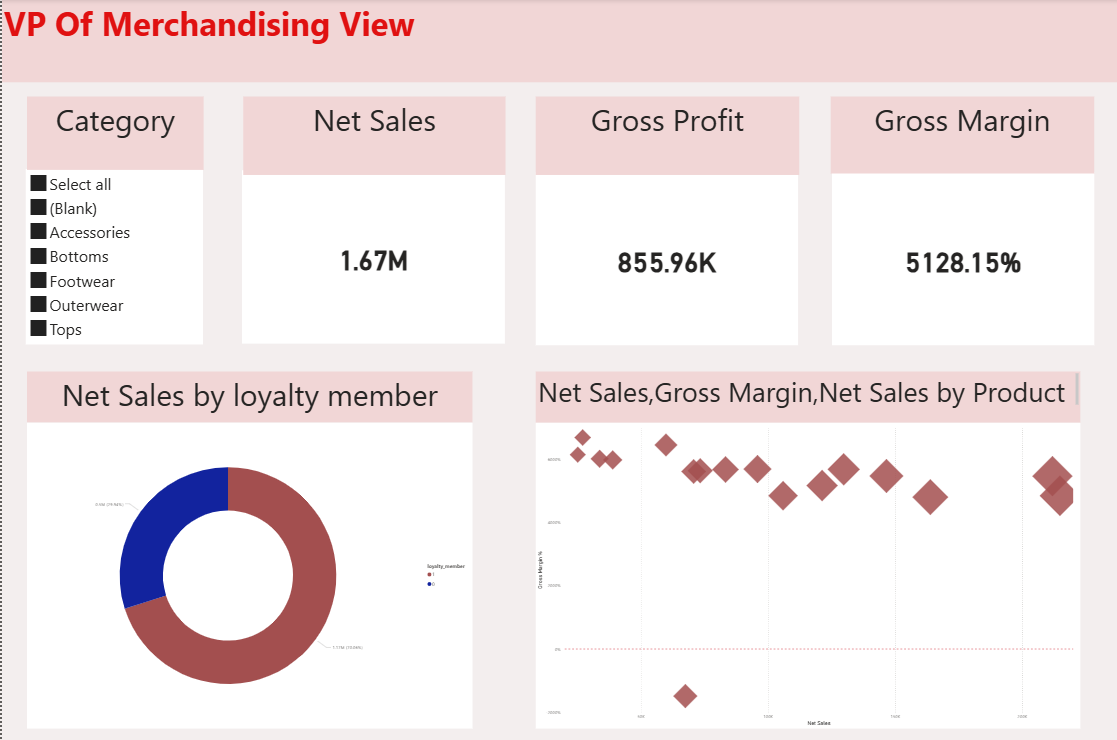

Layout of this report page (visuals, bound fields, positions):
{"tool":"powerbi","page":{"name":"VP of Merchandising View","canvas":[3000,2000],"ordinal":1},"visuals":[{"type":"card","fields":{"Values":["daily_foot_traffic.Net Sales"]},"box":[645,460,705,465],"z":0},{"type":"card","fields":{"Values":["daily_foot_traffic.Gross Profit"]},"box":[1430,465,703,462],"z":1000},{"type":"card","fields":{"Values":["daily_foot_traffic.Gross Margin %"]},"box":[2224,466,703,462],"z":2000},{"type":"scatterChart","fields":{"Category":["products.product_name"],"X":["daily_foot_traffic.Net Sales"],"Y":["daily_foot_traffic.Gross Margin %"],"Size":["daily_foot_traffic.Net Sales"]},"box":[1430,1136.7,1460,820],"z":3000},{"type":"donutChart","fields":{"Category":["transactions.loyalty_member"],"Y":["daily_foot_traffic.Net Sales"]},"box":[66,1136,1194,820],"z":4000},{"type":"slicer","fields":{"Values":["products.category"]},"box":[65,455,475,470],"z":5000},{"type":"textbox","box":[0,0,3000,223.3],"z":6000},{"type":"textbox","box":[646.7,260,703.3,210],"z":7000},{"type":"textbox","box":[1430,260,706.7,210],"z":8000},{"type":"textbox","box":[2223.3,260,706.7,206.7],"z":9000},{"type":"textbox","box":[66.7,260,473.3,196.7],"z":10000},{"type":"textbox","box":[66,1000,1194,136],"z":11000},{"type":"textbox","box":[1430,1000,1460,136.7],"z":12000}]}

Visuals, with their boxes in screenshot pixels (x1, y1, x2, y2), scaled from the page's 3000x2000 canvas onto the 1117x740 screenshot:
card - daily_foot_traffic.Net Sales: pyautogui.locateOnScreen(240, 170, 503, 342)
card - daily_foot_traffic.Gross Profit: pyautogui.locateOnScreen(532, 172, 794, 343)
card - daily_foot_traffic.Gross Margin %: pyautogui.locateOnScreen(828, 172, 1090, 343)
scatterChart - products.product_name x daily_foot_traffic.Net Sales: pyautogui.locateOnScreen(532, 421, 1076, 724)
donutChart - transactions.loyalty_member x daily_foot_traffic.Net Sales: pyautogui.locateOnScreen(25, 420, 469, 724)
slicer - products.category: pyautogui.locateOnScreen(24, 168, 201, 342)
textbox: pyautogui.locateOnScreen(0, 0, 1116, 83)
textbox: pyautogui.locateOnScreen(241, 96, 503, 174)
textbox: pyautogui.locateOnScreen(532, 96, 796, 174)
textbox: pyautogui.locateOnScreen(828, 96, 1091, 173)
textbox: pyautogui.locateOnScreen(25, 96, 201, 169)
textbox: pyautogui.locateOnScreen(25, 370, 469, 420)
textbox: pyautogui.locateOnScreen(532, 370, 1076, 421)
